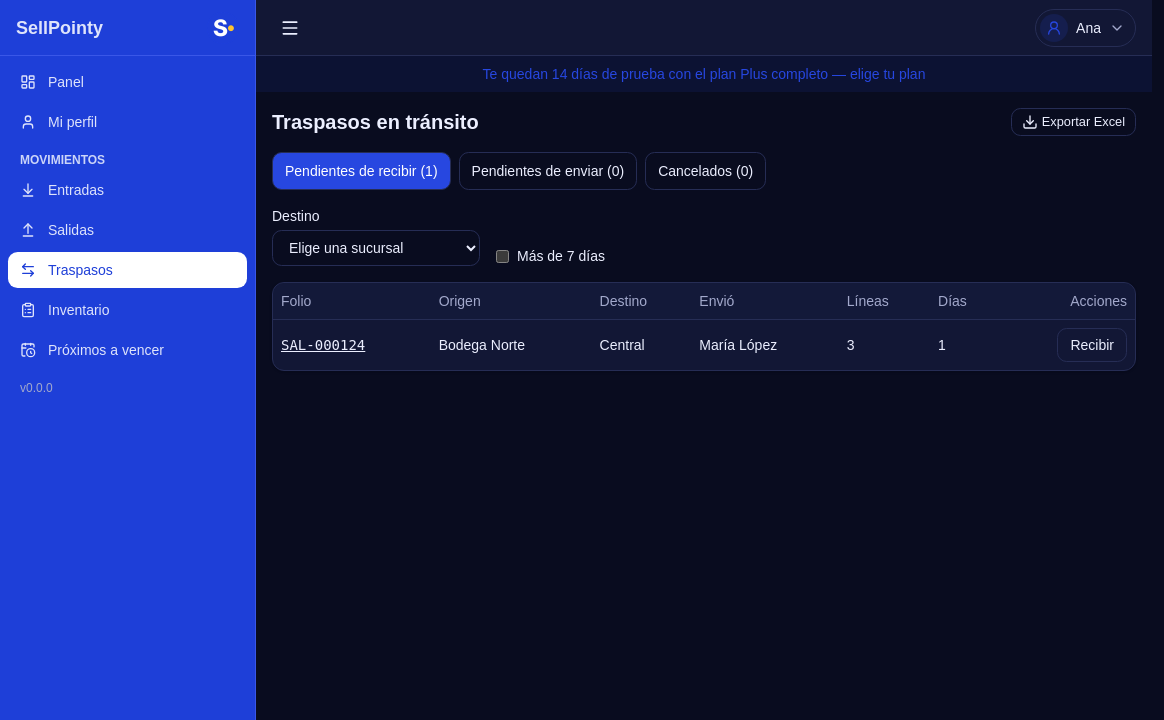
Test case: Traspasos en tránsito (F3-TRANSFER-05) › la pestaña «Cancelados» pide ese status y muestra el motivo, sin acciones
Check: the link "SAL-000124" is shown, box [281, 337, 365, 353]
Click the tab "Cancelados (0)".
click(706, 171)  # box [645, 152, 766, 190]
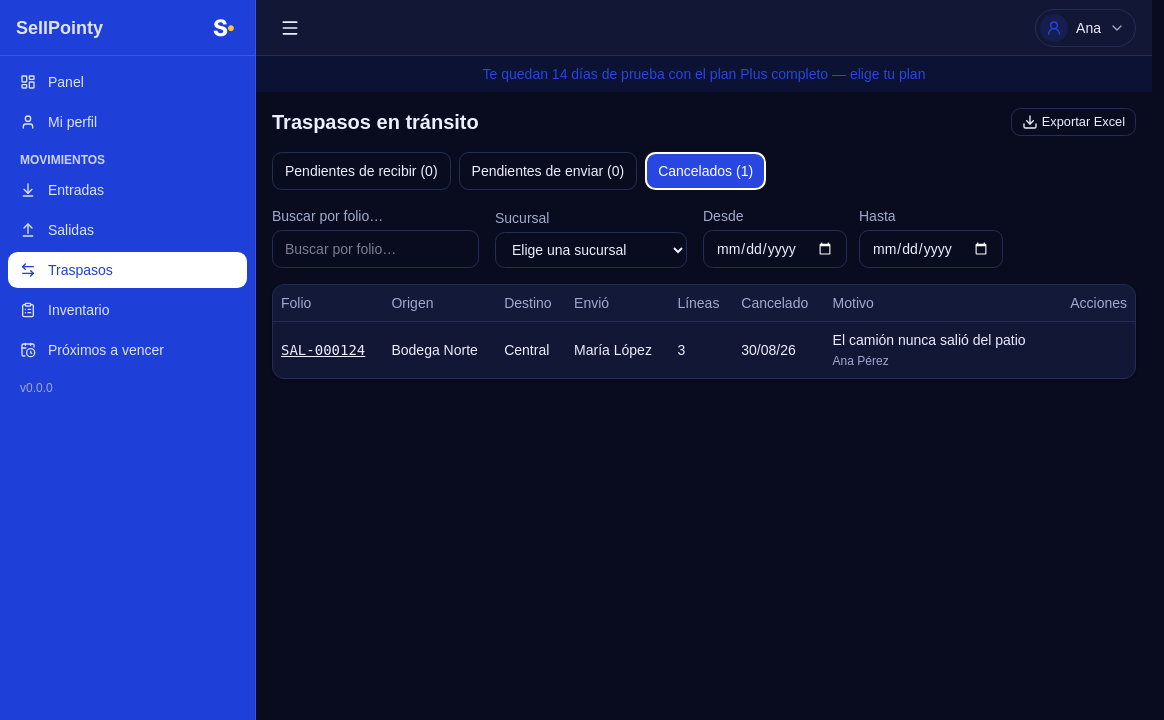
Check: the text "El camión nunca salió del patio" is shown, box [833, 330, 1047, 350]
